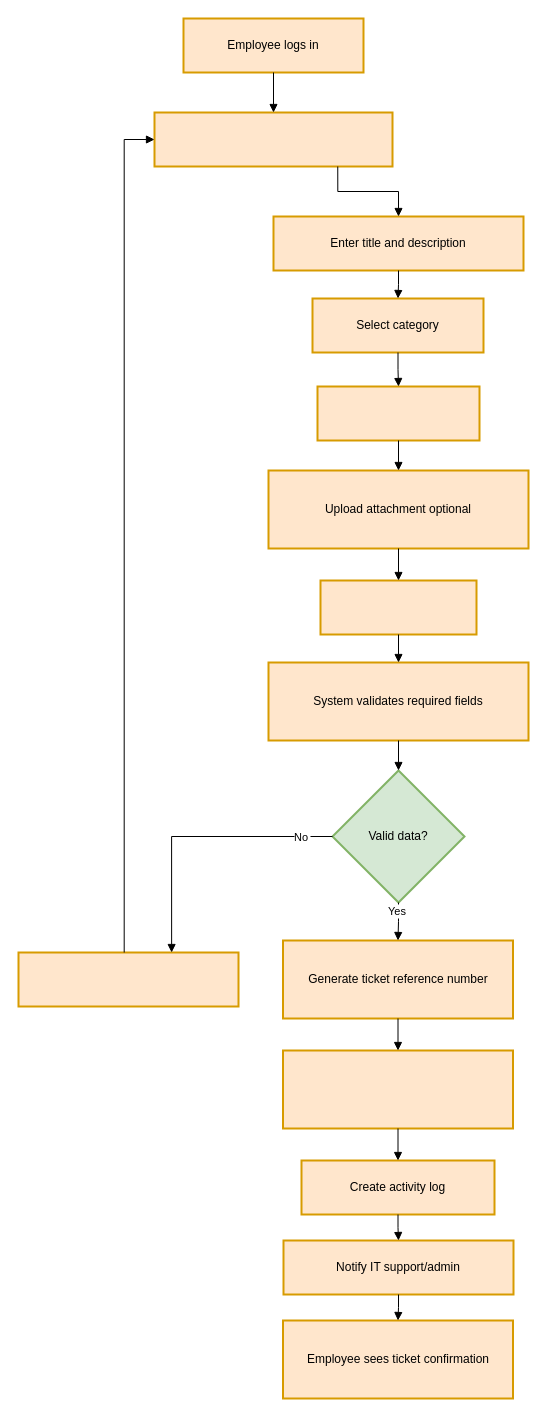
Image size: 546x1416. Some labels were removed from this diagram. The centre of each missing label's shape, as x and y in pixels:
Open Create Ticket page: [273,139]
Save ticket with Open status: [398,1089]
Select priority: [398,413]
Show validation errors: [128,979]
Submit ticket: [398,607]
